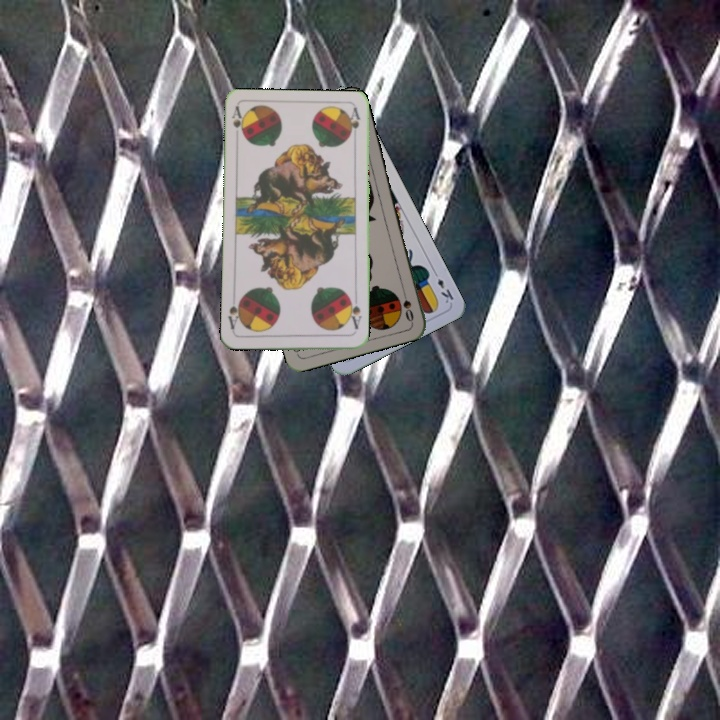EK: (429, 267, 456, 306)
SA: (345, 294, 364, 332), (227, 104, 247, 140)
SO: (398, 284, 416, 324)
